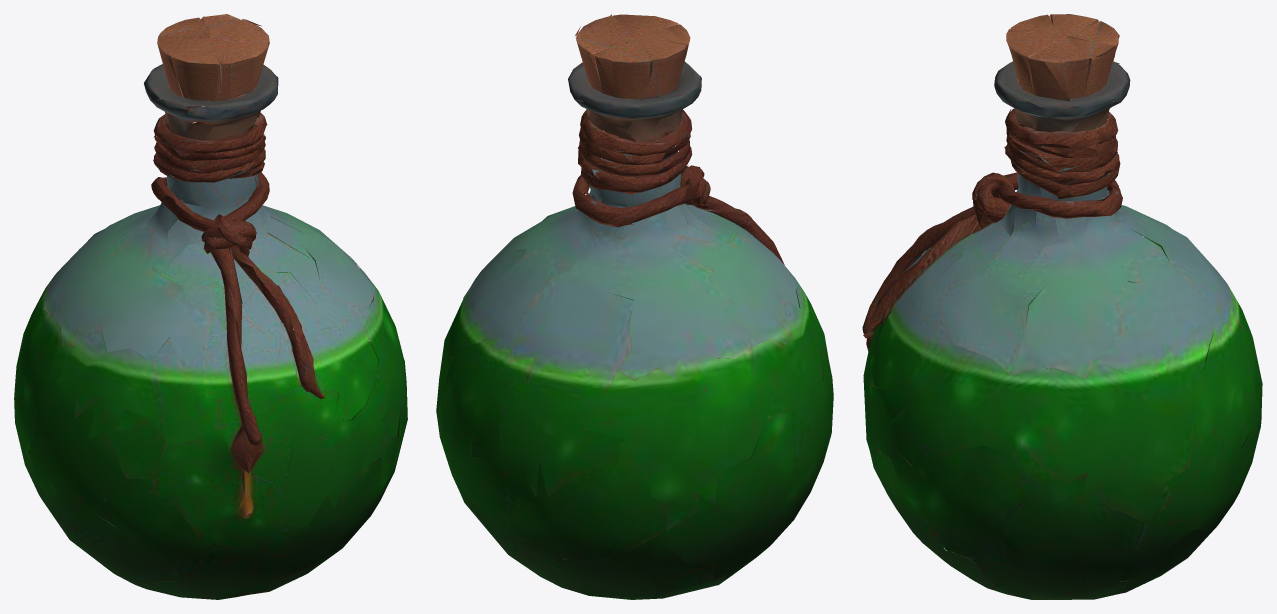
File: flask.glb
3 views of the same model, side by side, from view 1: azimuth 30°, elevation 25°; view 2: azimuth 150°, elevation 25°; view 3: azimuth 270°, elevation 25° (orthographic).
Parts seen in each view (by area): view 1: Mesh_0; view 2: Mesh_0; view 3: Mesh_0.
Part boxes in pixels (<box>): Mesh_0: <box>14,14,407,599</box>; Mesh_0: <box>436,14,833,599</box>; Mesh_0: <box>862,14,1262,599</box>.
Size of the model in its own units: 0.1101 by 0.16 by 0.1109.
1 material, 1 textured.
